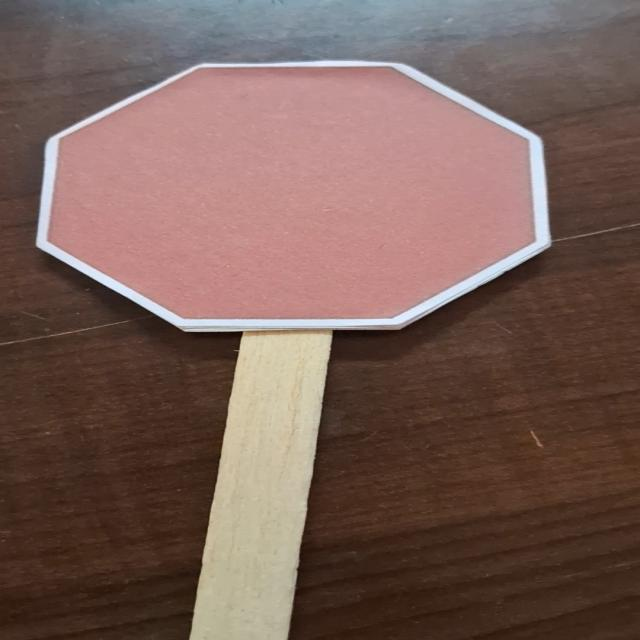Stop: (26, 55, 559, 334)
